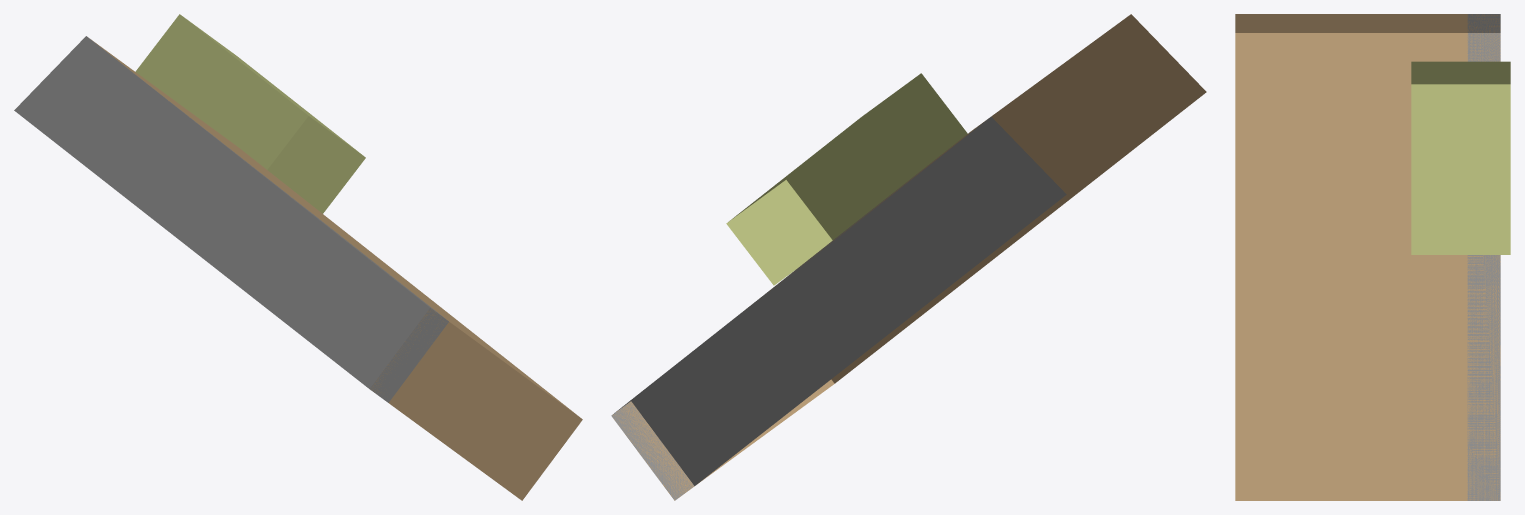
The picture shows the model from 3 angles, left to right: view 1: azimuth 30°, elevation 25°; view 2: azimuth 150°, elevation 25°; view 3: azimuth 270°, elevation 25°; orthographic projection. The views are drawn at different scales.
Parts seen in each view (by area): view 1: 0_1_2_0_3_0_2_0_2; view 2: 0_1_2_0_3_0_2_0_2; view 3: 0_1_2_0_3_0_2_0_2.
Part boxes in pixels (<box>): 0_1_2_0_3_0_2_0_2: <box>14,14,582,500</box>; 0_1_2_0_3_0_2_0_2: <box>611,14,1206,500</box>; 0_1_2_0_3_0_2_0_2: <box>1235,14,1510,500</box>.
Size of the model in its own units: 37.73 by 36.59 by 24.9.
